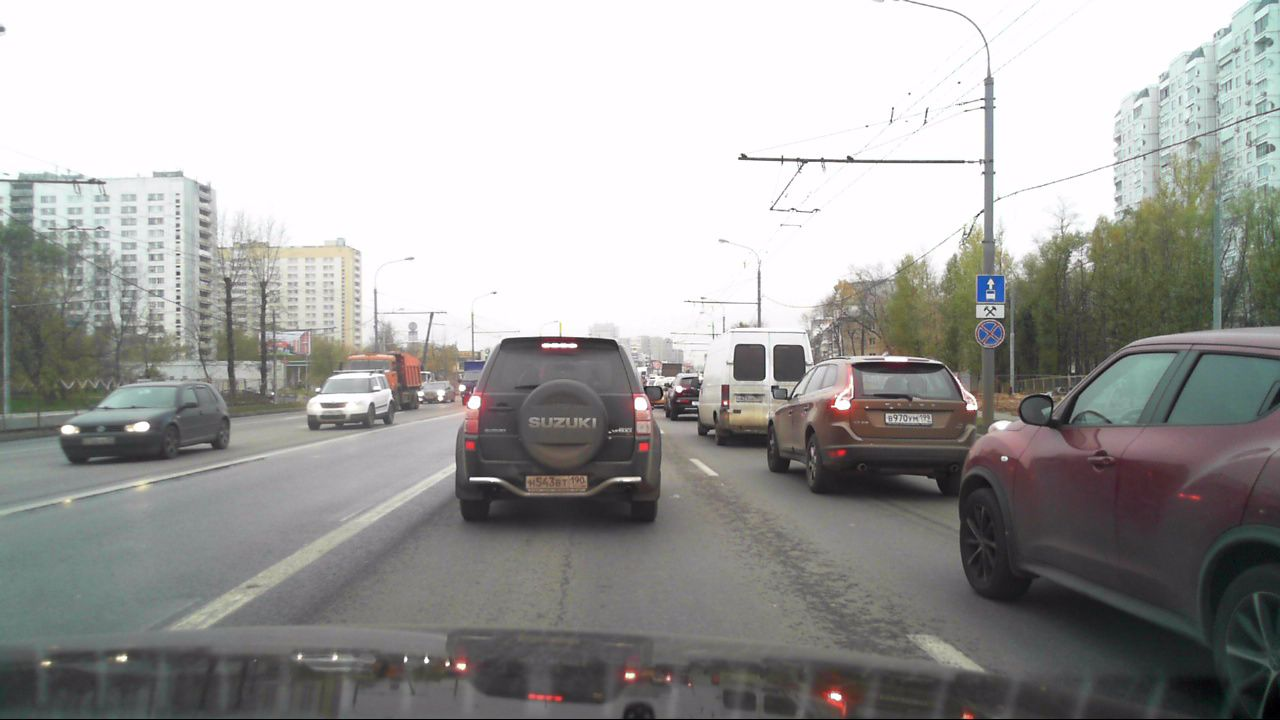No Parking: (974, 320, 1005, 349)
